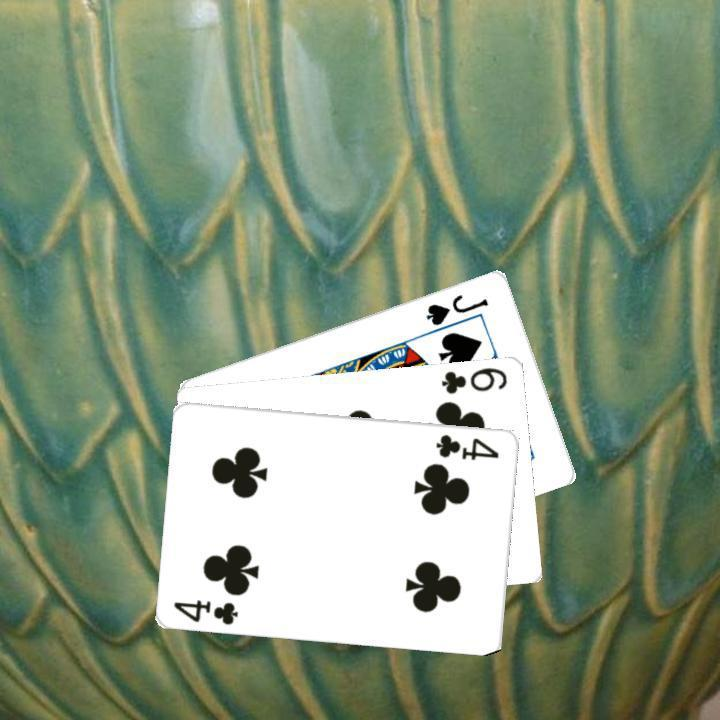4: (170, 595, 241, 627), (432, 430, 502, 462)
6: (438, 362, 510, 396)
J: (422, 289, 491, 327)
